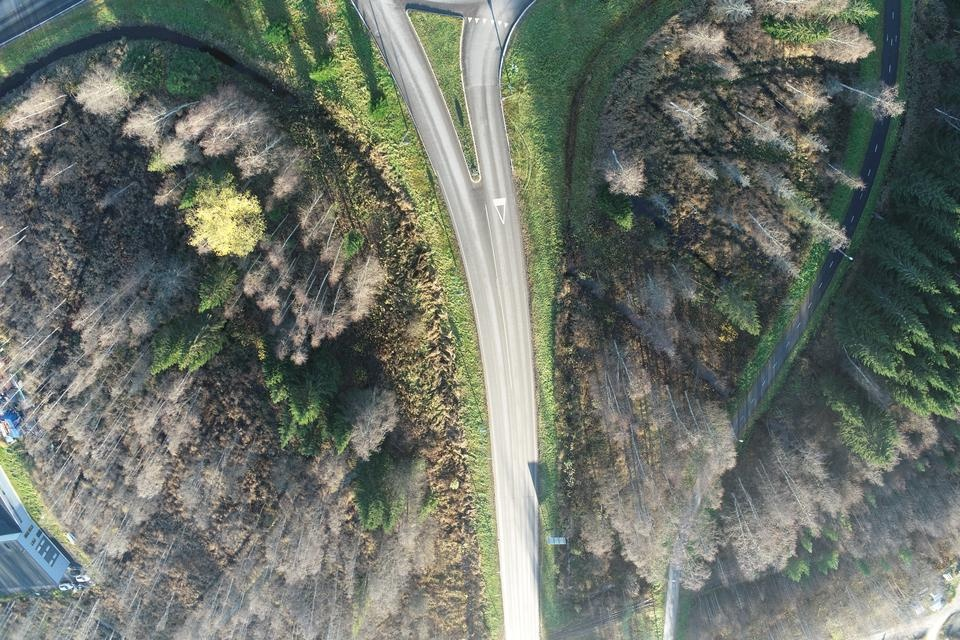roundabout: (276, 0, 612, 74)
